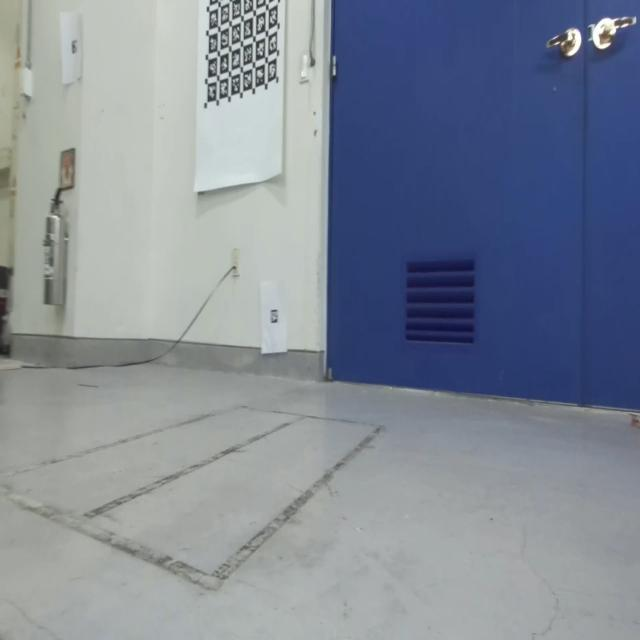crazyflie: (626, 408, 640, 431)
